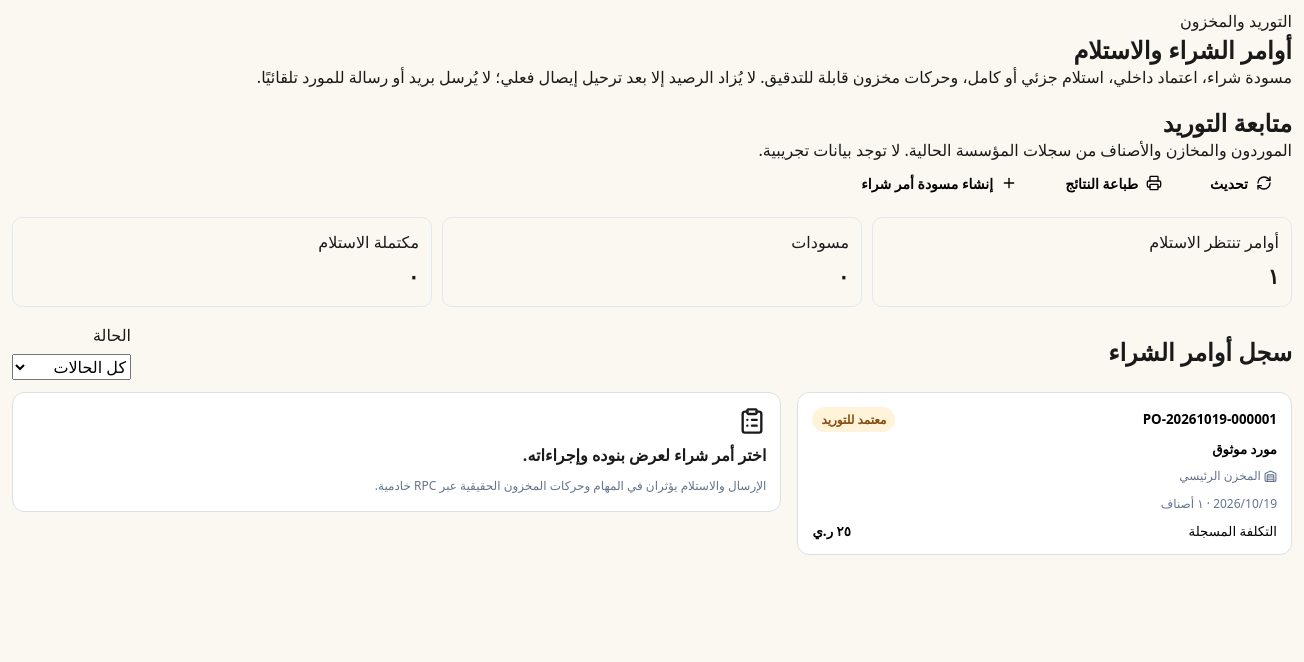
Test: purchase orders page › rejects a receipt quantity greater than the server-reported remainder
Expected: the text "PO-20261019-000001" is shown, [1143,410,1277,428]
Click the button "PO-20261019-000001" at (1210, 419), box [797,392,1292,555]
(page scrolled)
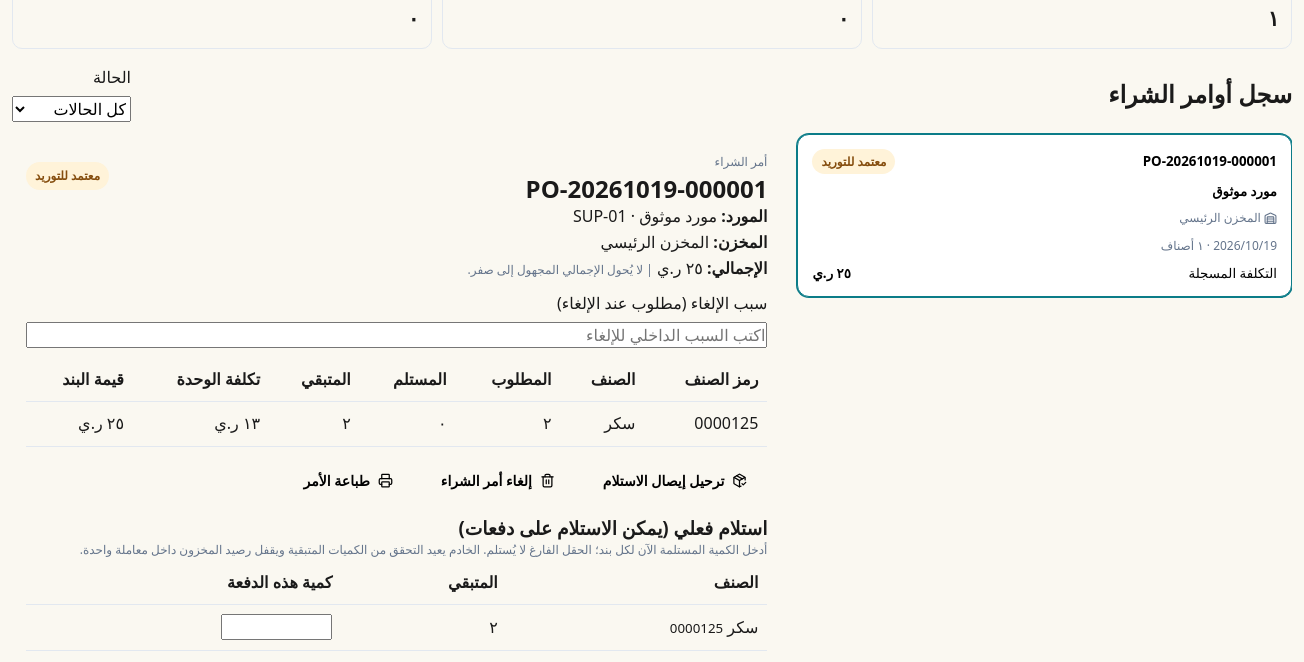
Type "2.001" into the number field named "كمية الاستلام سكر" at (277, 627), box [221,614,332,640]
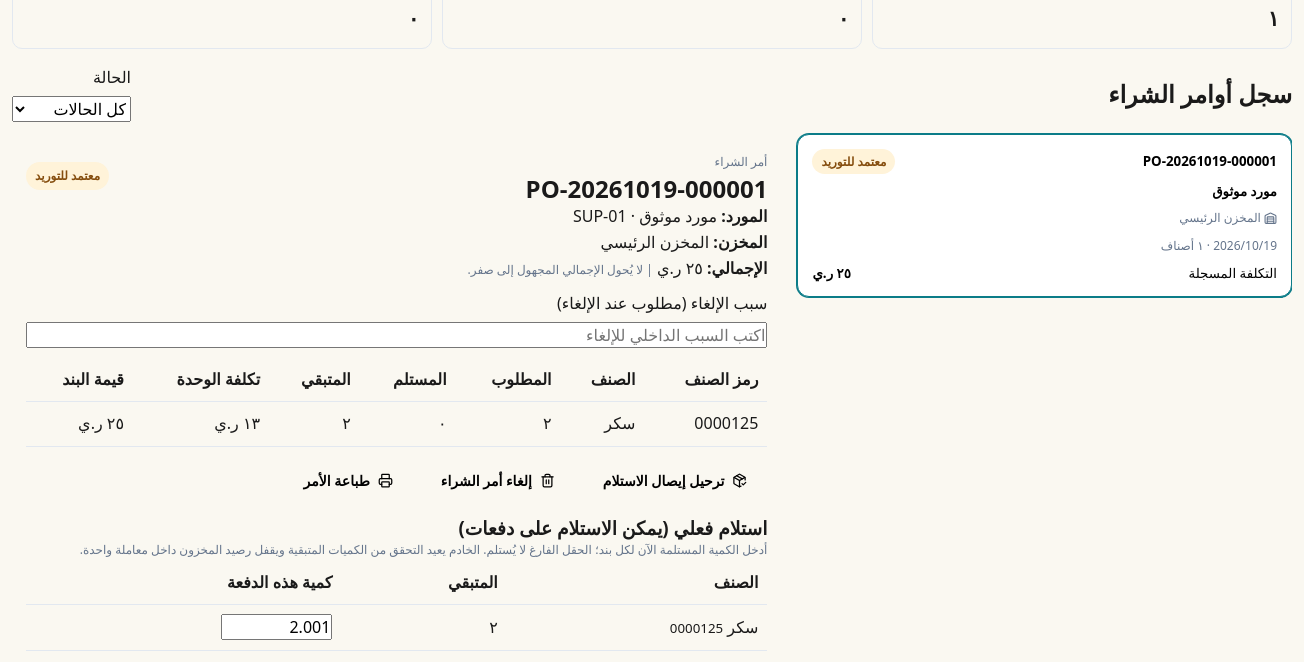
Click the button "ترحيل إيصال الاستلام" at (675, 480), box [583,461,767,500]
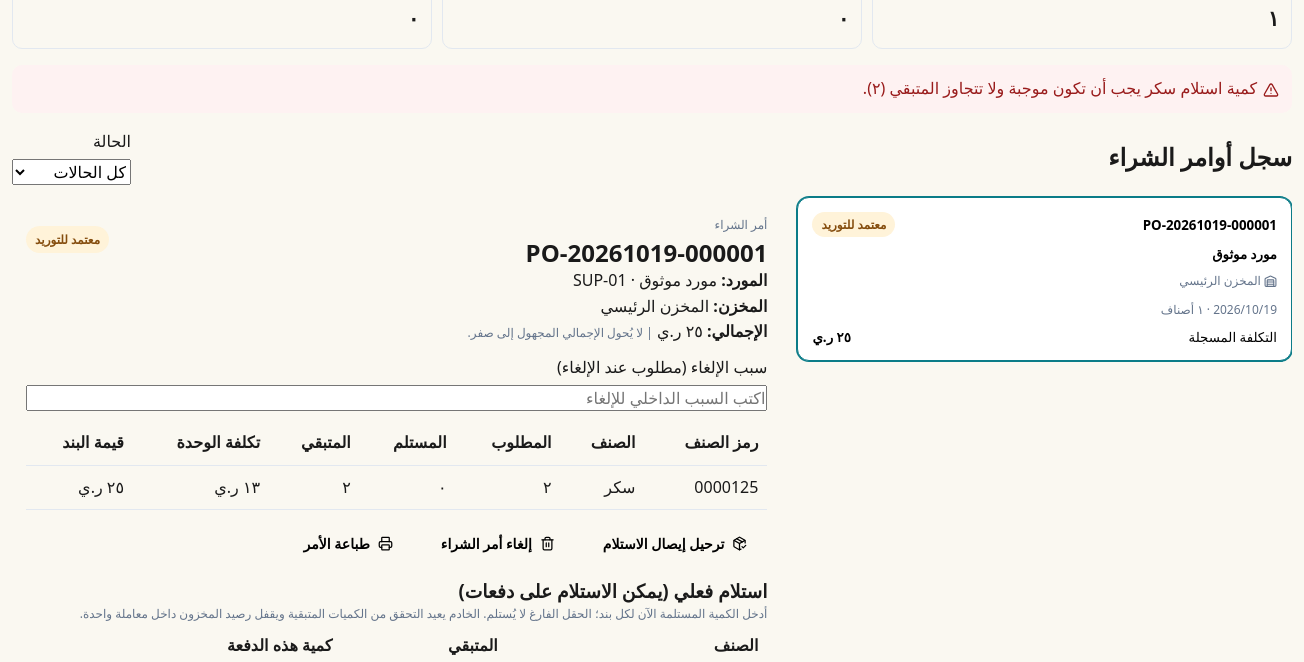
Now the message shows "كمية استلام سكر", box [863,77,1257,99]
